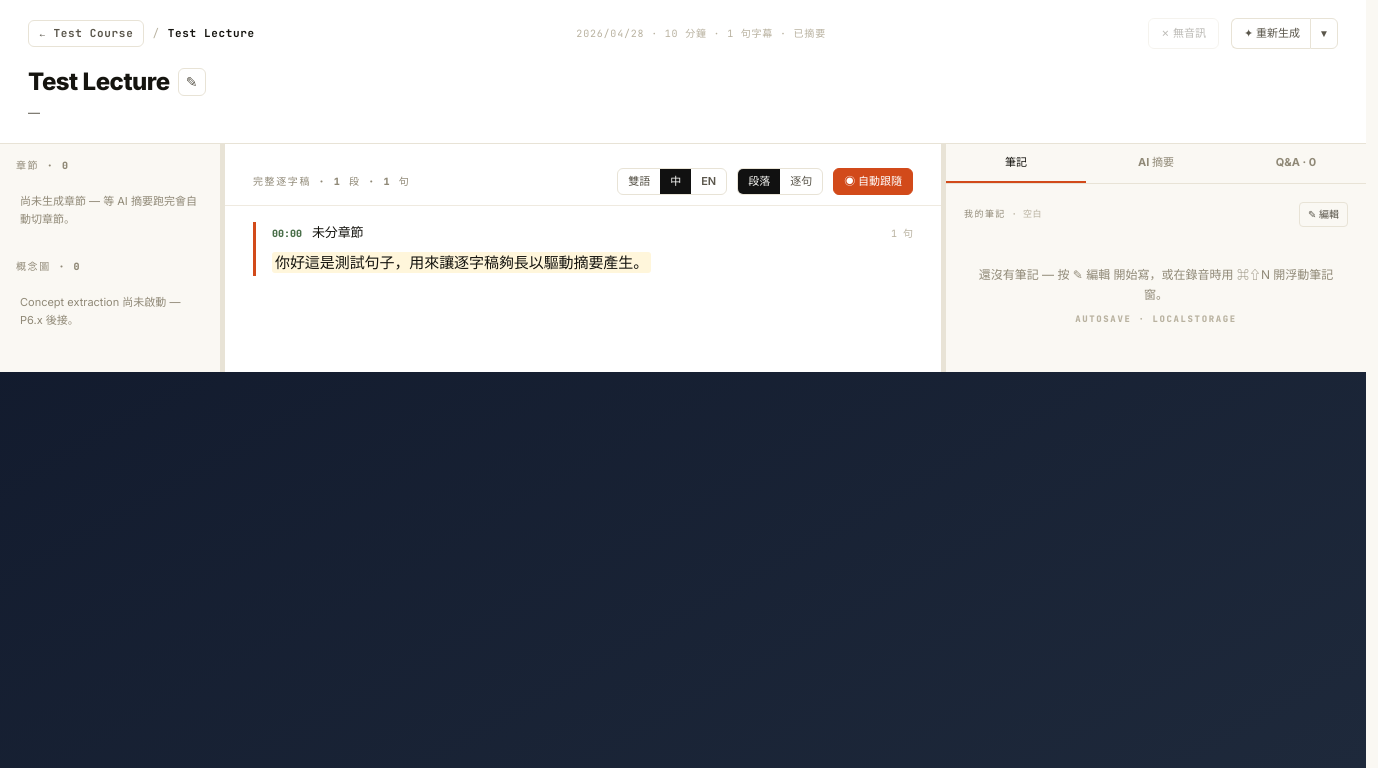
H18ReviewPage · cp75.29 markdown rendering in 摘要 tab › renders ## heading as h2 element
Step 1. Click the button "AI 摘要" → (1156, 163), box [1086,144,1226,183]
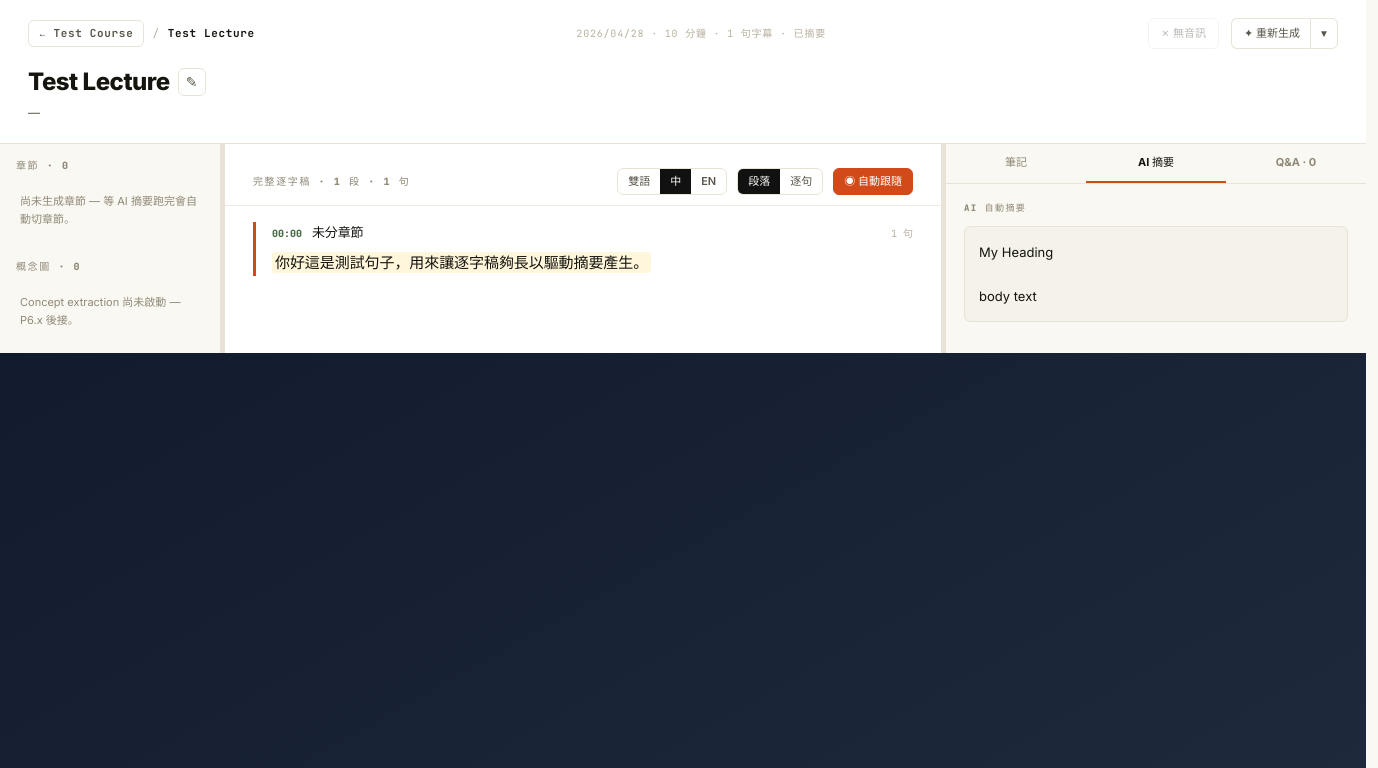
Now the heading "My Heading" is shown, box [979,244,1053,260]
